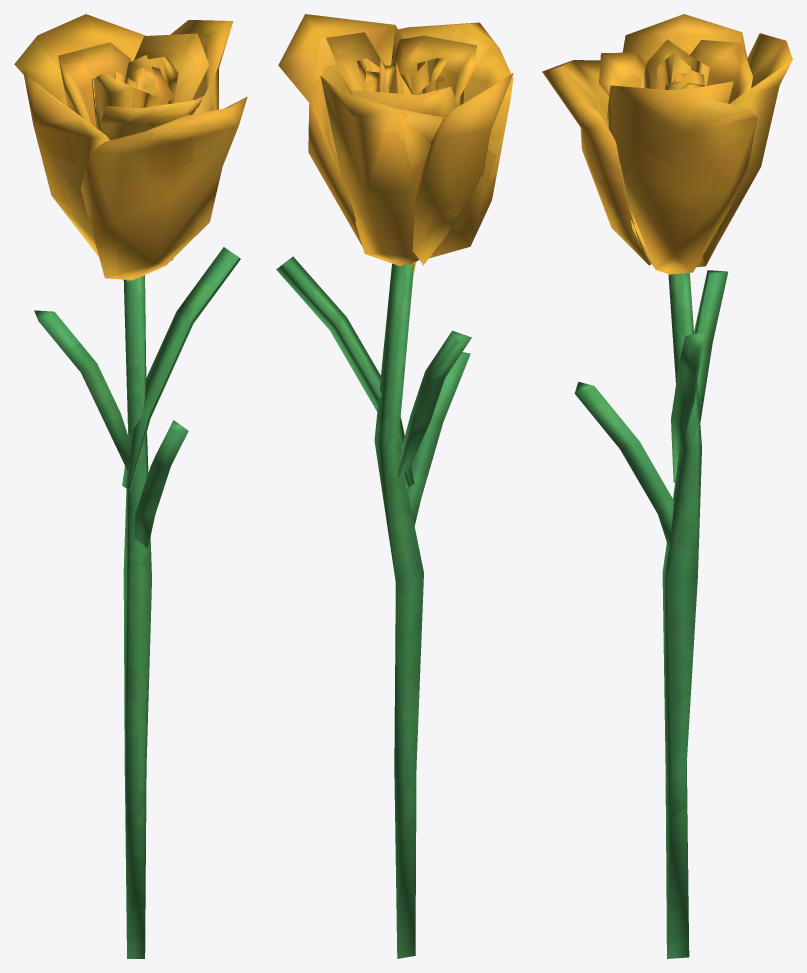
Rendered from yellow_tulip.fbx.
3 renders of one model, left to right at view 1: azimuth 30°, elevation 25°; view 2: azimuth 150°, elevation 25°; view 3: azimuth 270°, elevation 25°, orthographic.
Parts seen in each view (by area): view 1: yellow_tulip; view 2: yellow_tulip; view 3: yellow_tulip.
Part boxes in pixels (x1,y1,x2,y2): yellow_tulip: [14, 14, 247, 958]; yellow_tulip: [276, 14, 513, 958]; yellow_tulip: [542, 14, 792, 958].
Bounding box in the file's own units: 12.21 × 49.82 × 12.4.
